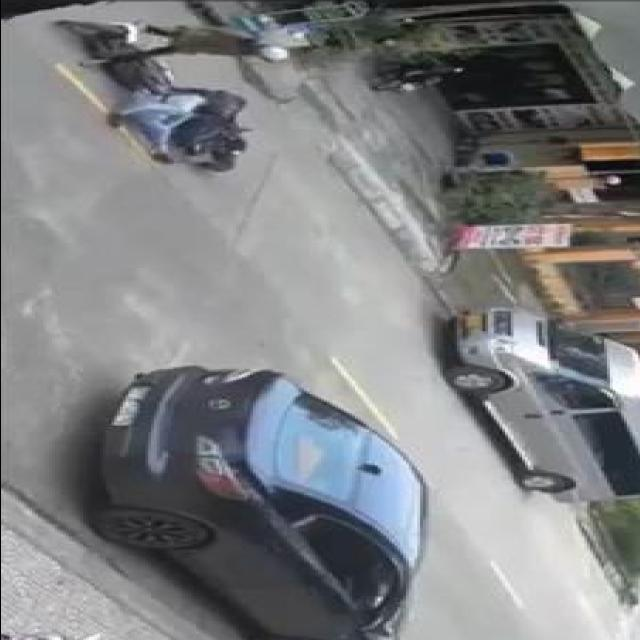accident: (38, 15, 298, 179)
